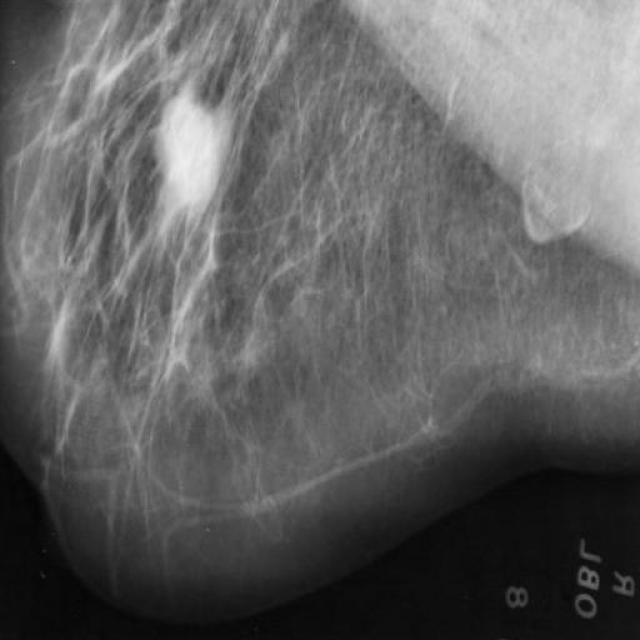cancer: (130, 62, 238, 236)
